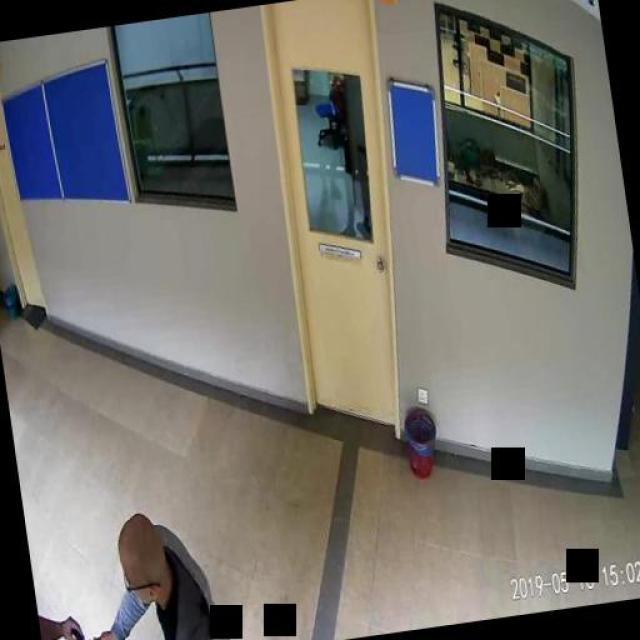gun: (71, 622, 109, 640)
